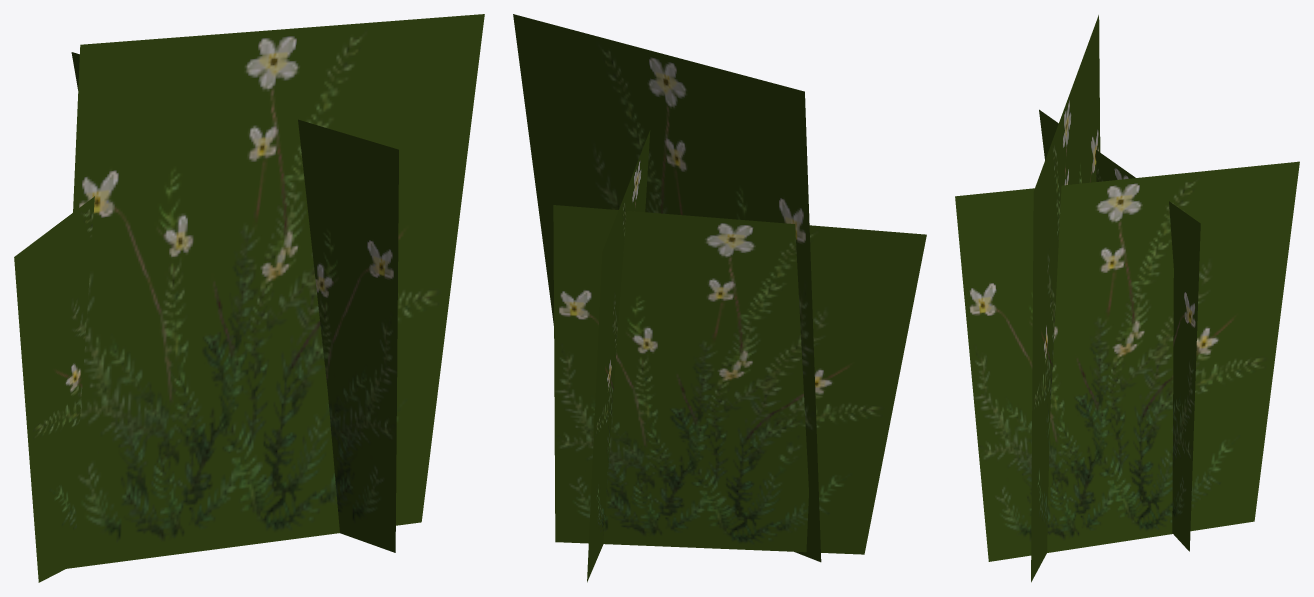
The model's file is yw_museyulin_xiaohua01.FBX.
The picture shows the model from 3 angles, left to right: view 1: azimuth 30°, elevation 25°; view 2: azimuth 150°, elevation 25°; view 3: azimuth 270°, elevation 25°; orthographic projection. The views are drawn at different scales.
Parts seen in each view (by area): view 1: yw_museyulin_xiaohua01; view 2: yw_museyulin_xiaohua01; view 3: yw_museyulin_xiaohua01.
Boxes of the visible parts, box(x1,y1,x2,y2) form: yw_museyulin_xiaohua01: box(14, 14, 484, 582); yw_museyulin_xiaohua01: box(513, 14, 926, 582); yw_museyulin_xiaohua01: box(955, 15, 1299, 582).
Size of the model in its own units: 121 by 129 by 91.17.
